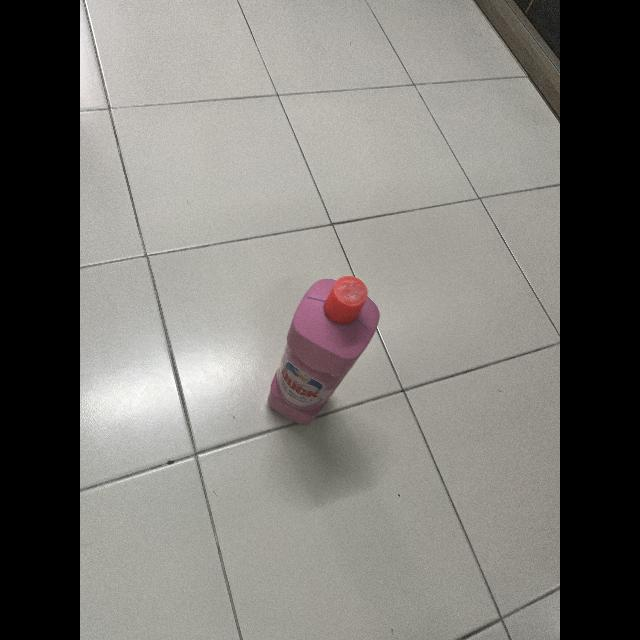chemical_plastic_bottle: (258, 270, 384, 426)
